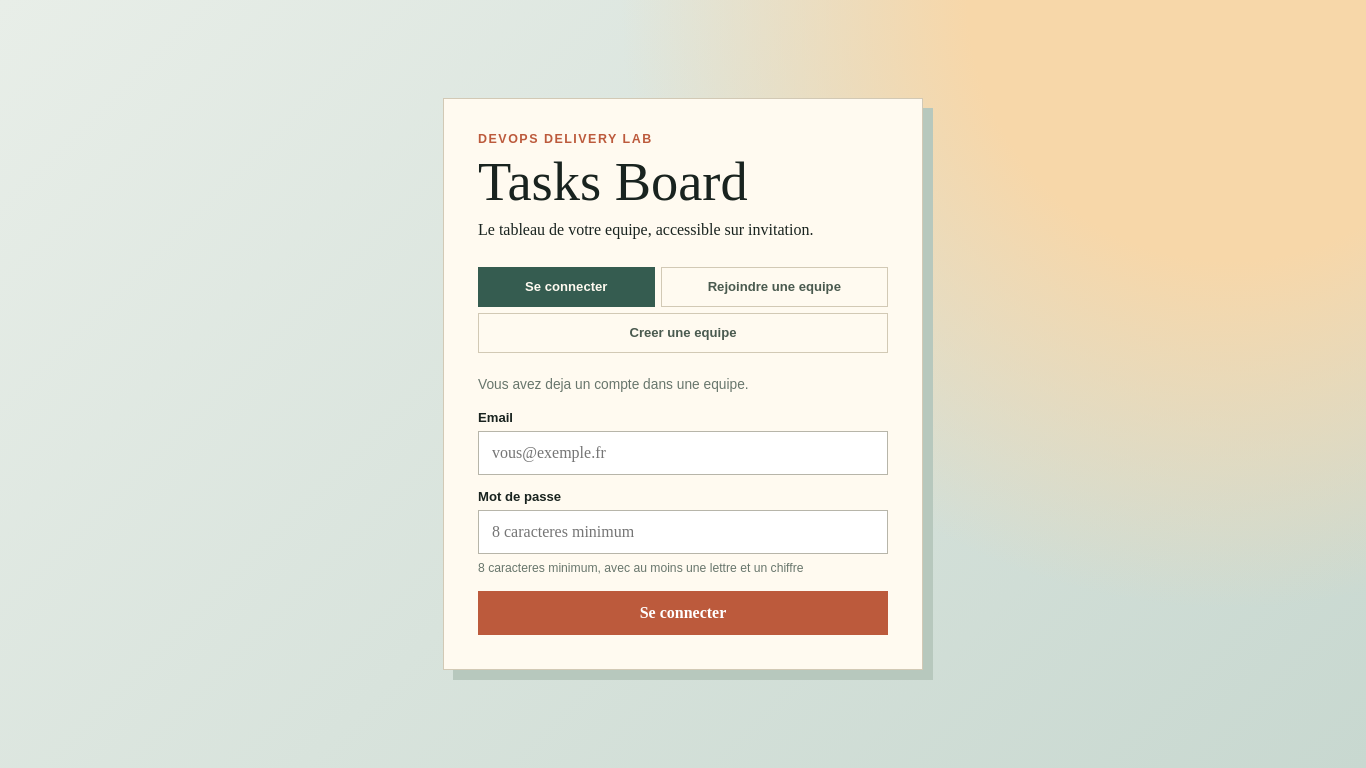
Test: Sans session › ouvre le tableau apres une connexion reussie et conserve le jeton
Type "chef@tasks.local" into the field labelled "Email".
click(683, 452); type("chef@tasks.local")  # box [478,430,888,474]
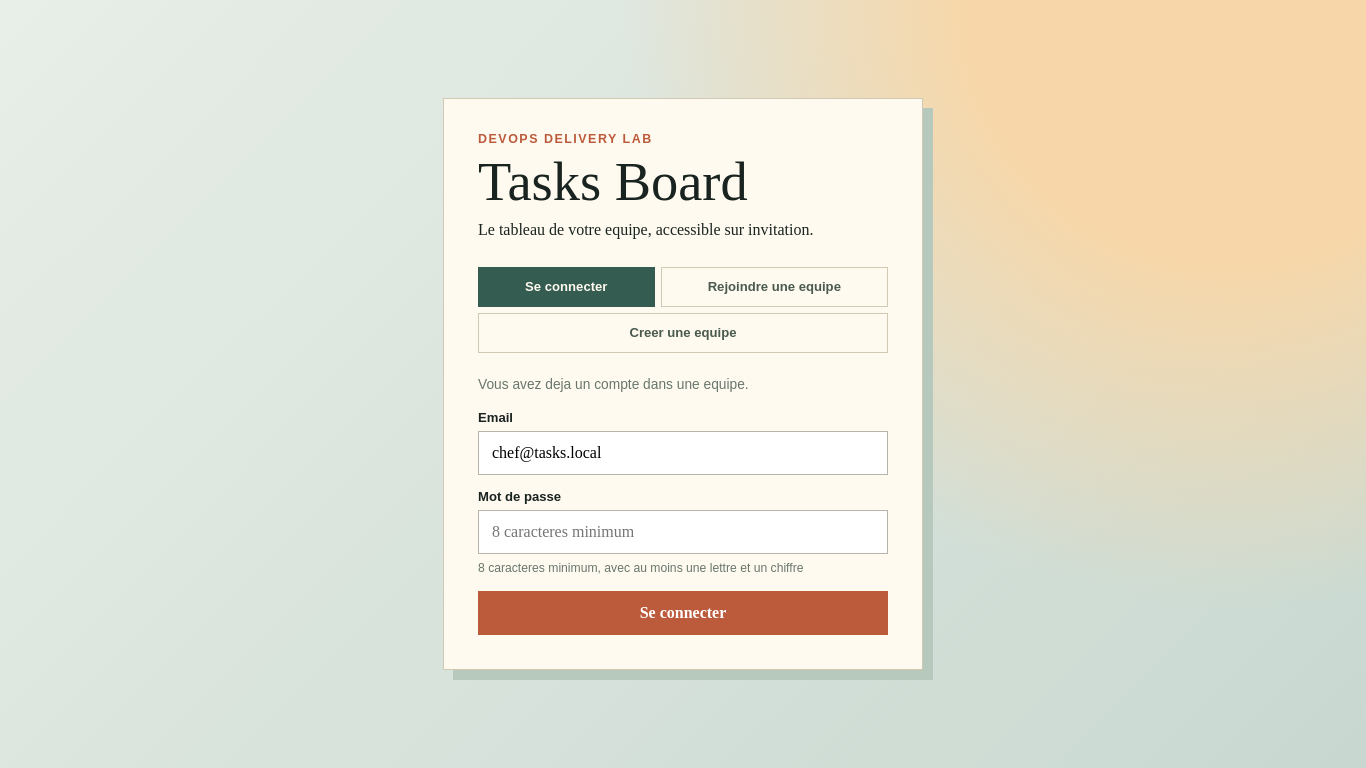
Type "Demo1234!" into the password field labelled "Mot de passe".
click(683, 532); type("Demo1234!")  # box [478,510,888,554]
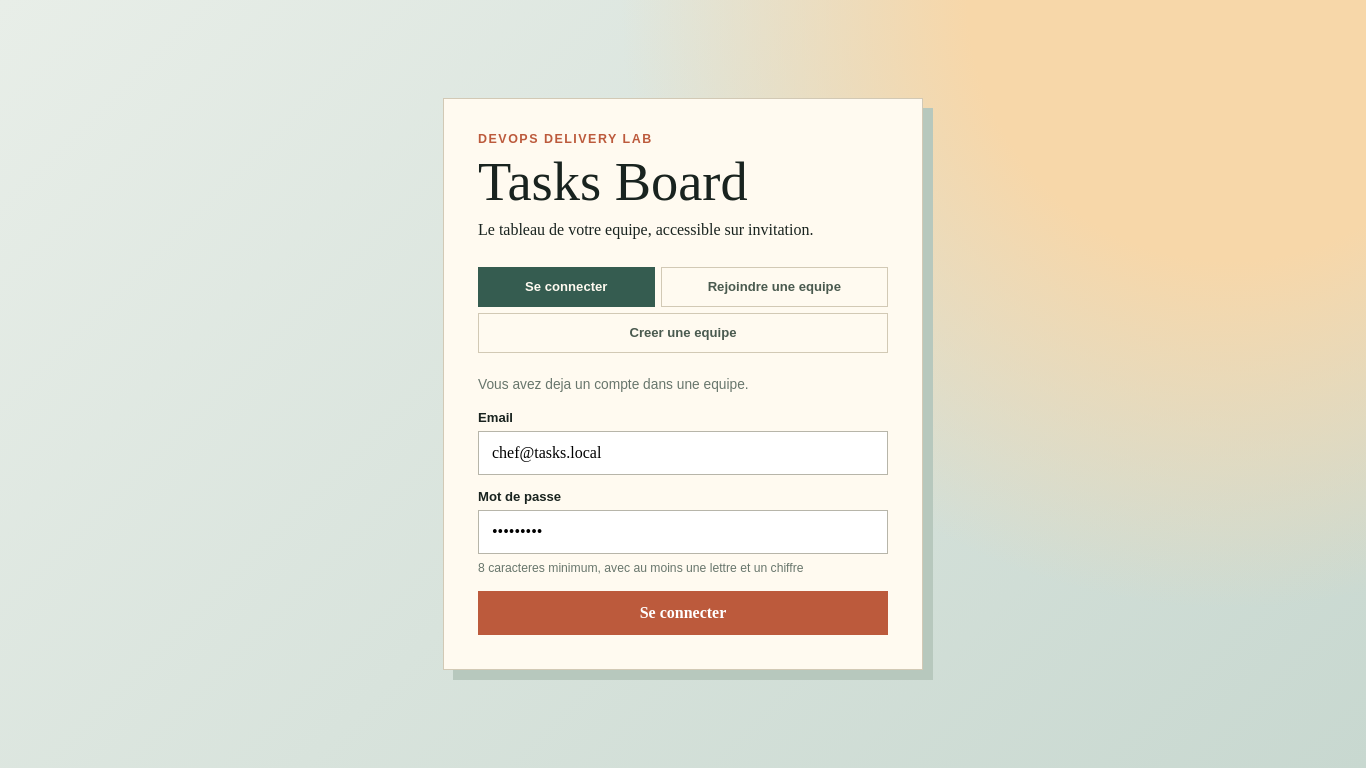
Click the button "Se connecter".
click(683, 612)  # box [478,590,888,634]
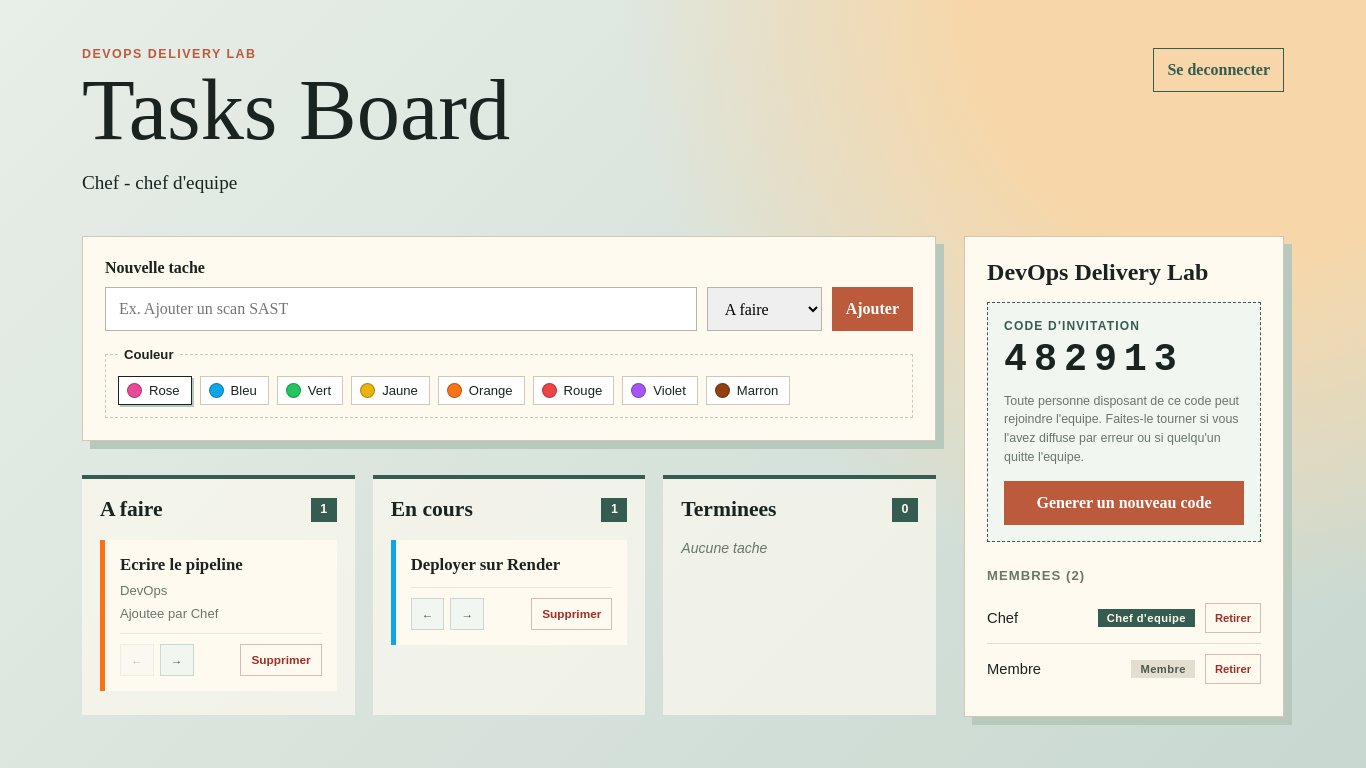
Check: the heading "Ecrire le pipeline" is shown, box [120,555,243,574]
